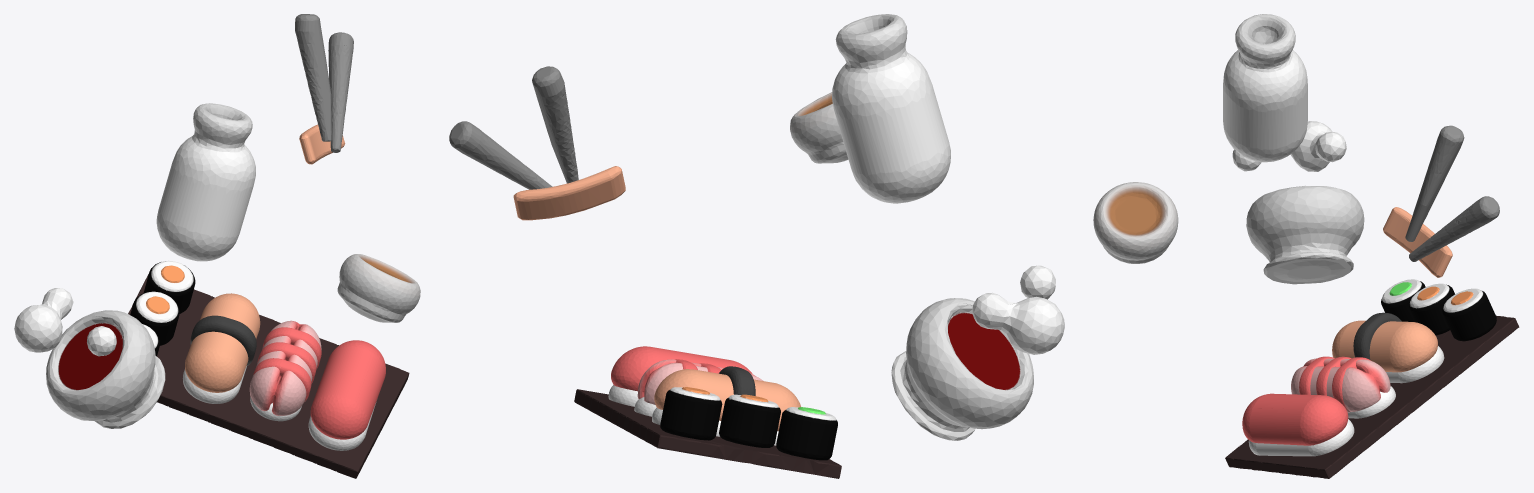
The model's file is Sushi.obj.
The picture shows the model from 3 angles, left to right: view 1: azimuth 30°, elevation 25°; view 2: azimuth 150°, elevation 25°; view 3: azimuth 270°, elevation 25°; orthographic projection. The views are drawn at different scales.
Visible parts, largest first — view 1: model_4, model_0, model_16, model_2, model_7, model_9, model_1, model_5, model_12, model_10, model_6, model_8 (+3 smaller); view 2: model_4, model_0, model_2, model_5, model_16, model_1, model_9, model_7, model_12, model_10; view 3: model_4, model_0, model_16, model_2, model_1, model_5, model_7, model_9, model_12, model_6, model_10, model_8 (+3 smaller).
Boxes of the visible parts, left/top/right/bottom form: model_4: left=14, top=288, right=165, bottom=428; model_0: left=156, top=103, right=255, bottom=261; model_16: left=128, top=274, right=409, bottom=478; model_2: left=295, top=14, right=353, bottom=164; model_7: left=310, top=340, right=385, bottom=439; model_9: left=185, top=293, right=260, bottom=392; model_1: left=337, top=254, right=420, bottom=322; model_5: left=130, top=260, right=195, bottom=356; model_12: left=249, top=320, right=321, bottom=415; model_10: left=190, top=315, right=256, bottom=365; model_6: left=308, top=402, right=376, bottom=450; model_8: left=183, top=366, right=246, bottom=403; model_4: left=891, top=265, right=1064, bottom=440; model_0: left=832, top=14, right=950, bottom=203; model_2: left=449, top=66, right=625, bottom=220; model_5: left=660, top=387, right=837, bottom=460; model_16: left=574, top=389, right=841, bottom=478; model_1: left=790, top=92, right=848, bottom=163; model_9: left=654, top=369, right=800, bottom=430; model_7: left=611, top=346, right=752, bottom=391; model_12: left=637, top=359, right=763, bottom=404; model_10: left=719, top=366, right=755, bottom=395; model_4: left=1232, top=121, right=1364, bottom=284; model_0: left=1223, top=14, right=1307, bottom=162; model_16: left=1225, top=315, right=1519, bottom=478; model_2: left=1383, top=125, right=1499, bottom=277; model_1: left=1093, top=182, right=1178, bottom=263; model_5: left=1381, top=279, right=1496, bottom=341; model_7: left=1242, top=393, right=1348, bottom=445; model_9: left=1332, top=320, right=1437, bottom=372; model_12: left=1291, top=358, right=1390, bottom=411; model_6: left=1248, top=419, right=1354, bottom=456; model_10: left=1353, top=312, right=1401, bottom=359; model_8: left=1386, top=346, right=1444, bottom=383.
Size of the model in its own units: 409 by 358 by 357.
Materials: 16 (16 with a texture image).
